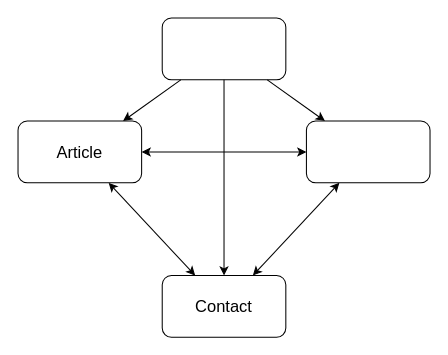
This 448x355 diagram has some shape labels left out. Here are the shapes that lost their labels. From the top down, the centre of each, then its label:
(223,48): Home
(367,151): Staff
